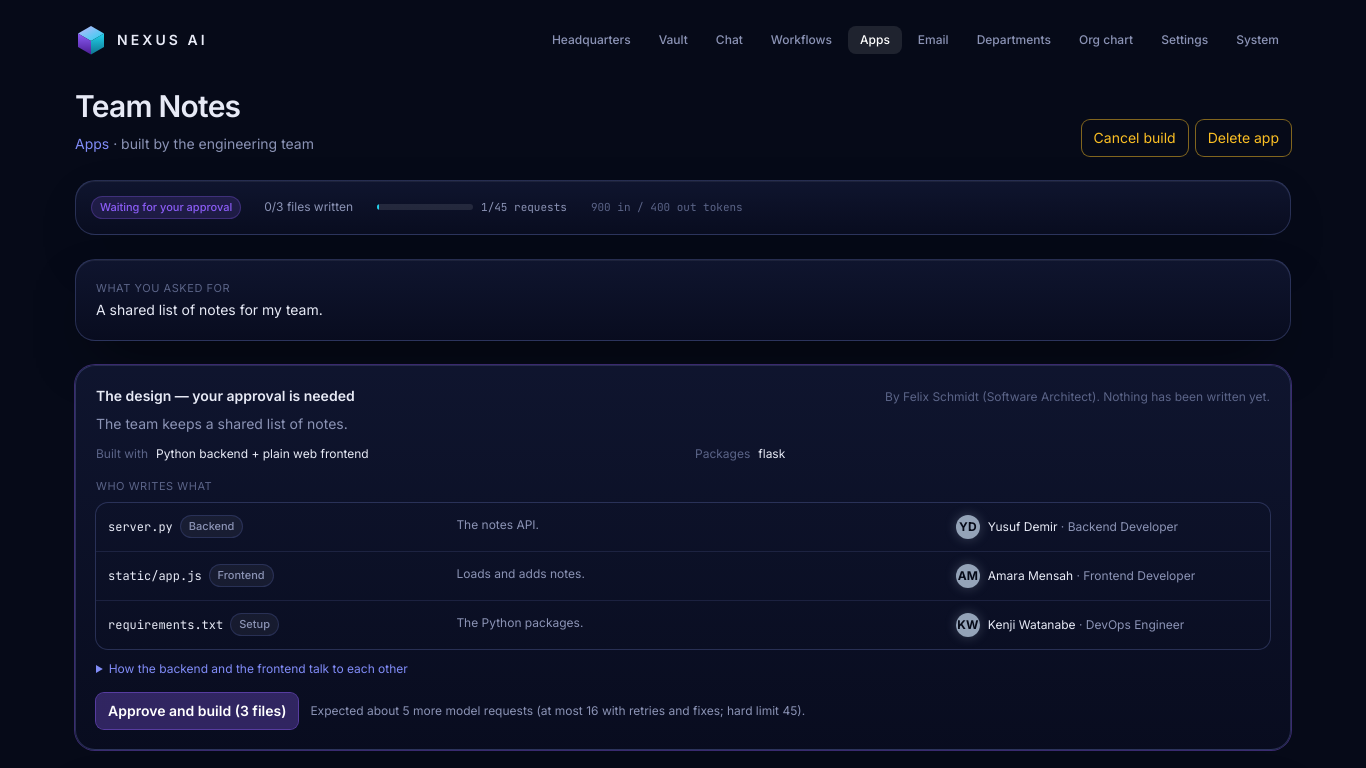
Scenario: AppDetailPage › shows who writes which file by role and builds only after approval
Expected: the element with test id "app-design" shows "your approval is needed", [171,387,355,404]
Expected: the element with test id "app-design" shows "By Felix Schmidt (Software Architect). Nothing has been written yet.", [75,365,1291,750]
Click the button "Approve and build (3 files)".
click(197, 710)  # box [96,692,298,728]
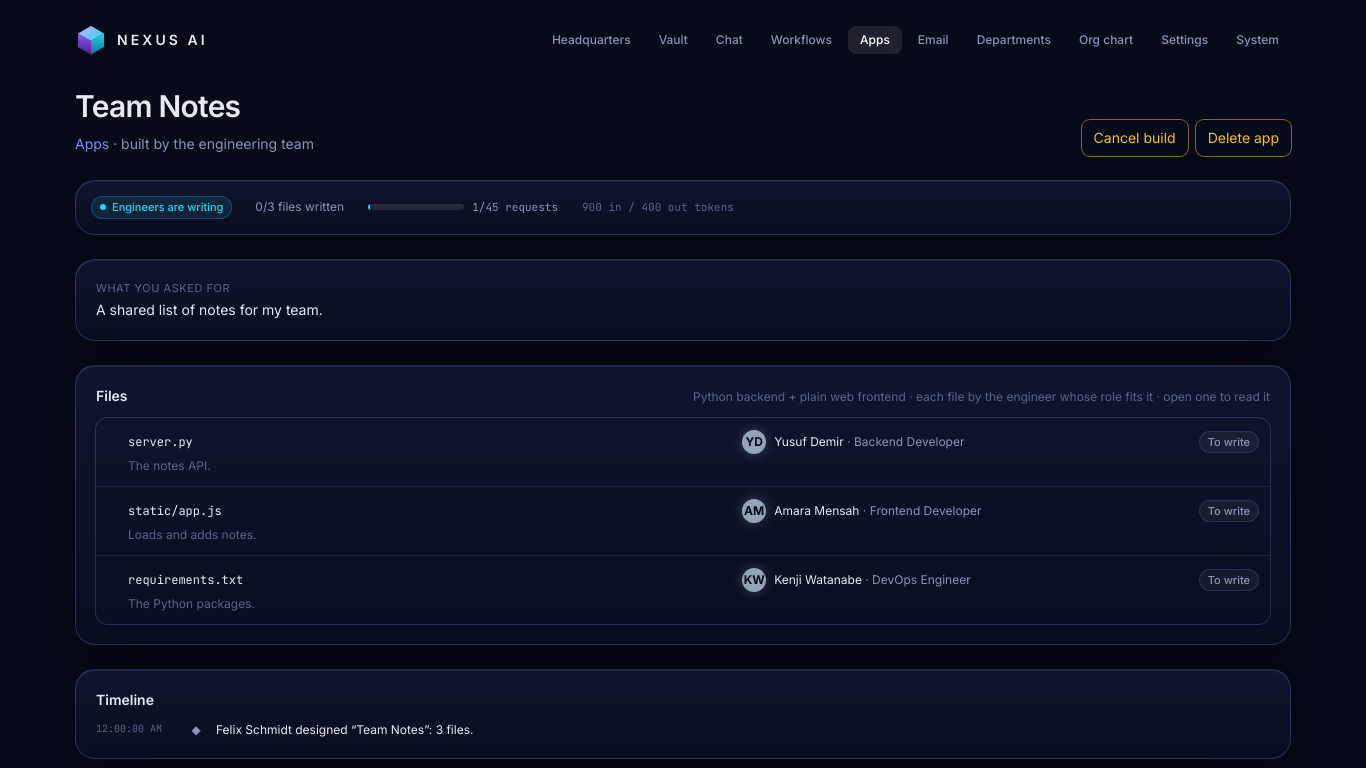
Expected: the element with test id "app-status" reads "Engineers are writing", [112,200,223,214]
Expected: the element with test id "app-design" is gone
